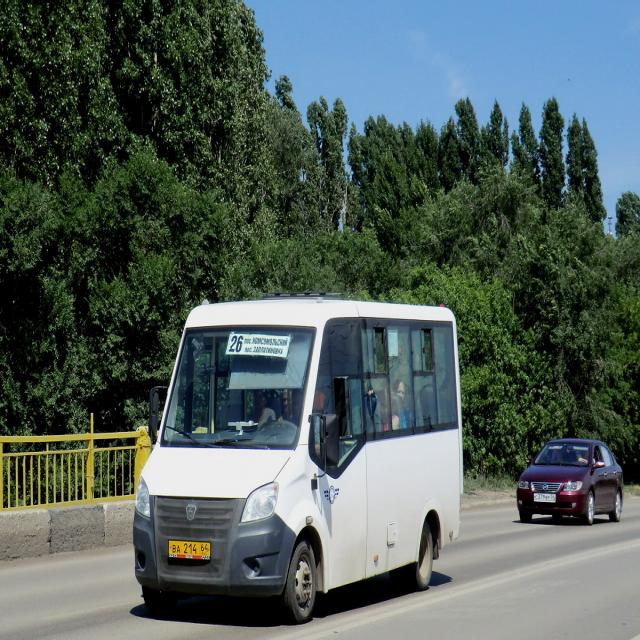number-of-bus: (229, 333, 245, 355)
